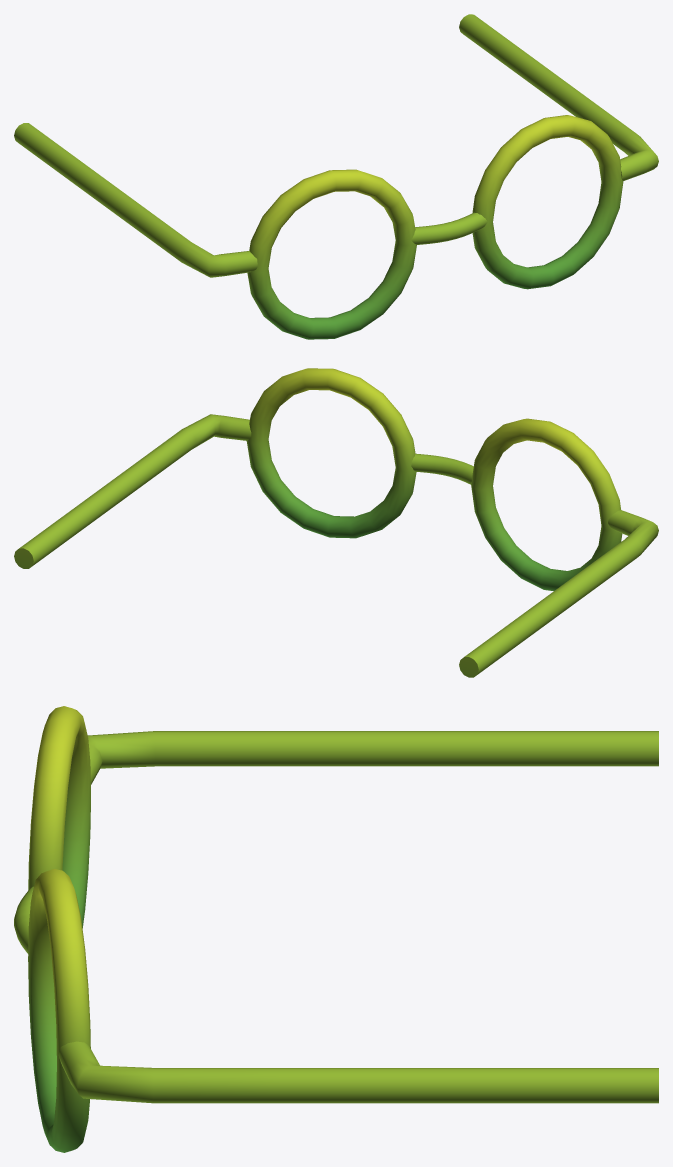
Rendered from glass4.fbx.
3 renders of one model, top to bottom at view 1: azimuth 30°, elevation 25°; view 2: azimuth 150°, elevation 25°; view 3: azimuth 270°, elevation 25°, orthographic. The views are drawn at different scales.
Visible parts, largest first — view 1: NurbsPath.010; view 2: NurbsPath.010; view 3: NurbsPath.010.
Boxes of the visible parts, left/top/right/bottom form: NurbsPath.010: left=14, top=14, right=658, bottom=339; NurbsPath.010: left=14, top=368, right=658, bottom=677; NurbsPath.010: left=14, top=706, right=658, bottom=1152.
Size of the model in its own units: 183 by 236 by 81.02.
